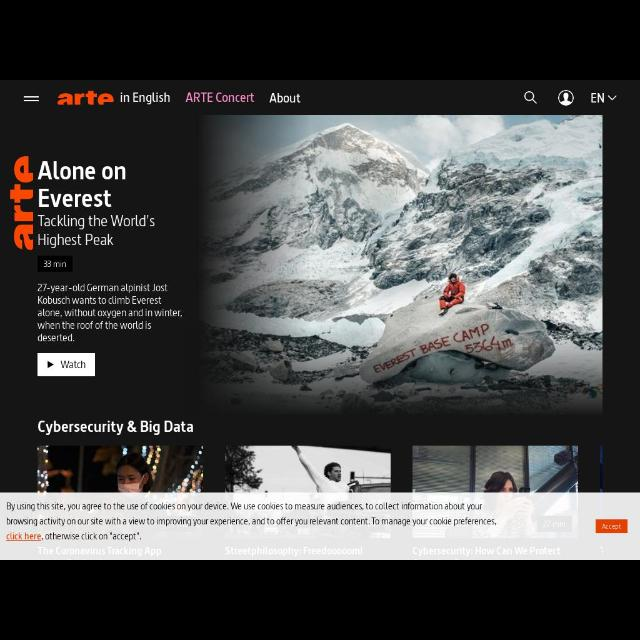icon: (523, 90, 539, 106), (558, 90, 574, 106), (22, 94, 40, 102), (606, 93, 618, 101), (46, 360, 54, 370)
image: (204, 113, 604, 414), (413, 446, 603, 494), (32, 445, 204, 493), (225, 445, 391, 493), (8, 156, 38, 250), (56, 92, 114, 106)
multitab: (115, 88, 307, 109)
spinner: (588, 90, 616, 104)
text: (6, 502, 496, 542), (36, 281, 184, 343), (38, 160, 128, 210), (37, 213, 157, 249), (35, 419, 195, 436), (184, 91, 256, 105), (118, 91, 170, 105), (268, 90, 302, 106), (59, 359, 86, 371), (42, 260, 68, 268), (590, 92, 606, 104), (602, 523, 622, 531)
textbutton: (36, 353, 96, 377), (596, 520, 628, 534)
